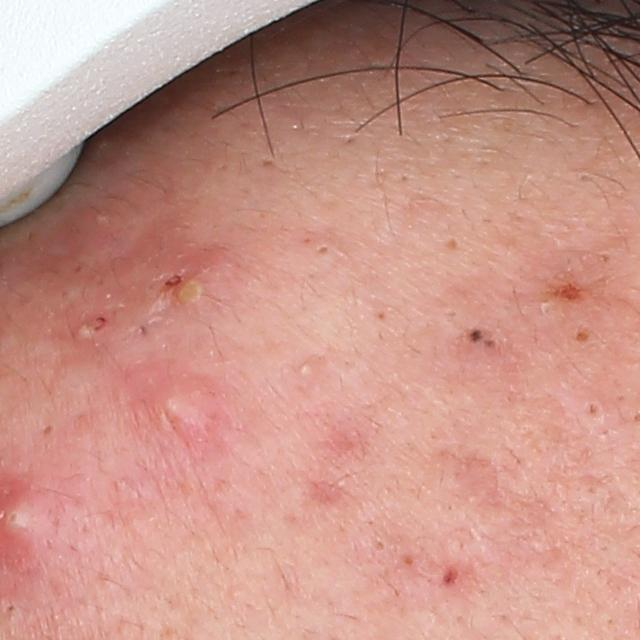atrophic_scar: (304, 477, 347, 510)
comedo: (313, 241, 332, 259), (572, 328, 589, 343), (586, 401, 600, 419), (445, 237, 459, 253), (373, 310, 387, 325), (484, 339, 497, 352)
pustule: (148, 377, 211, 430), (176, 272, 214, 311), (70, 313, 102, 347)
